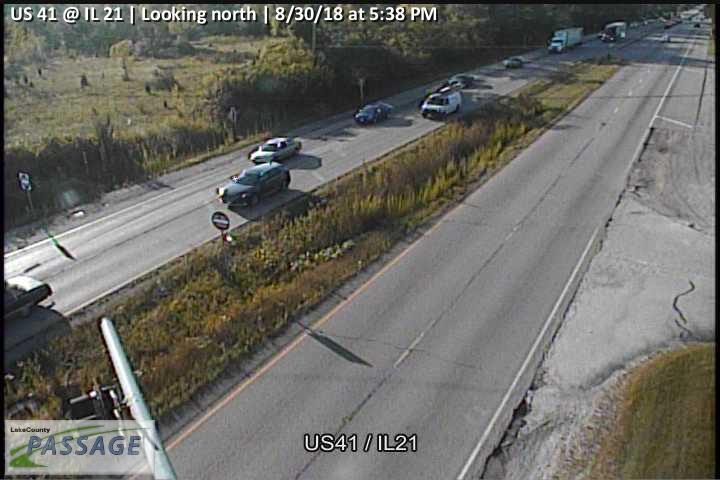SUV: (216, 161, 292, 210), (420, 89, 463, 122), (659, 33, 671, 43)
Sedan: (3, 271, 54, 321), (248, 135, 301, 164), (354, 100, 392, 127), (446, 73, 475, 88), (503, 55, 523, 70)
Truck: (546, 25, 586, 53), (601, 20, 628, 44)
